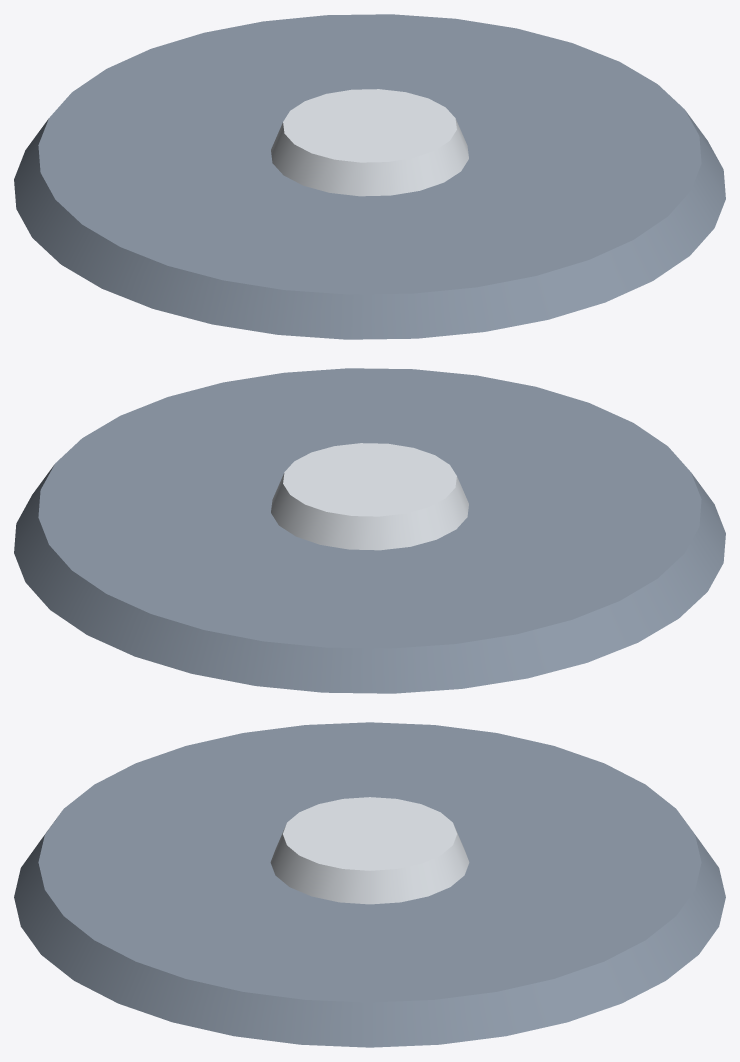
File: fountain.glb
The picture shows the model from 3 angles, top to bottom: view 1: azimuth 30°, elevation 25°; view 2: azimuth 150°, elevation 25°; view 3: azimuth 270°, elevation 25°; orthographic projection.
Visible parts, largest first — view 1: outerRim, centerTier; view 2: outerRim, centerTier; view 3: outerRim, centerTier.
Boxes of the visible parts, <box> form: outerRim: <box>14,14,725,339</box>; centerTier: <box>271,89,468,196</box>; outerRim: <box>14,368,725,693</box>; centerTier: <box>271,443,468,550</box>; outerRim: <box>14,722,725,1047</box>; centerTier: <box>270,797,469,904</box>.
Size of the model in its own units: 20.4 by 2 by 20.4.
